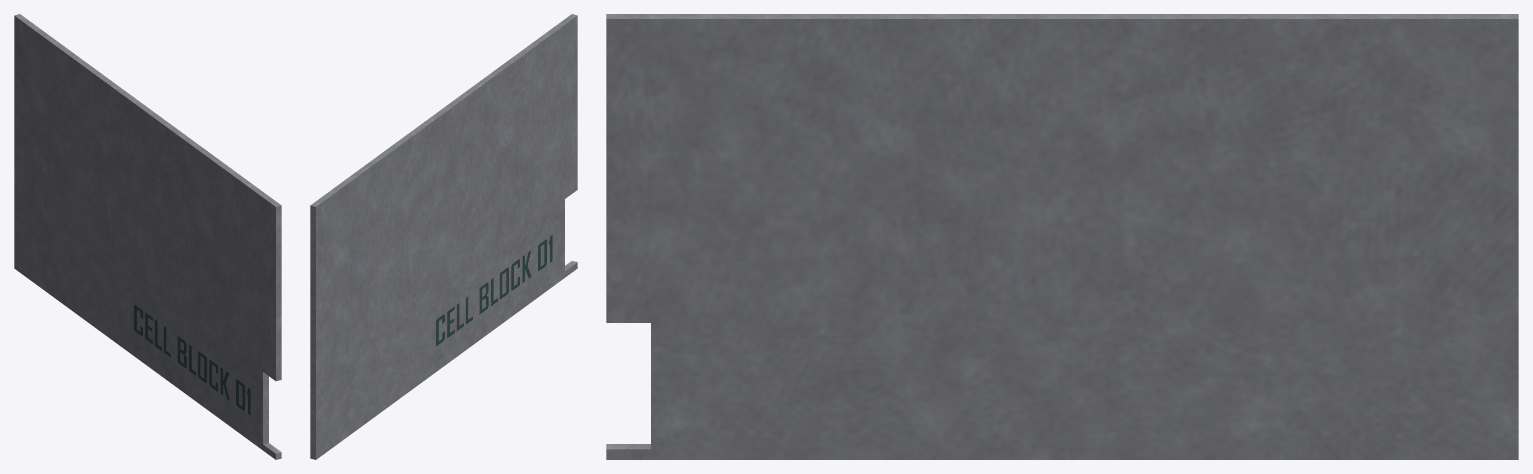
File: door_wall.fbx
The picture shows the model from 3 angles, left to right: view 1: azimuth 30°, elevation 25°; view 2: azimuth 150°, elevation 25°; view 3: azimuth 270°, elevation 25°; orthographic projection. The views are drawn at different scales.
Visible parts, largest first — view 1: door_wall; view 2: door_wall; view 3: door_wall.
Boxes of the visible parts, x1,y1,x2,y2 form: door_wall: (14, 14, 281, 459); door_wall: (310, 14, 577, 459); door_wall: (606, 14, 1518, 459).
Bounding box in the file's own units: 19.62 × 800 × 1500.
Materials: 1 (1 with a texture image).
